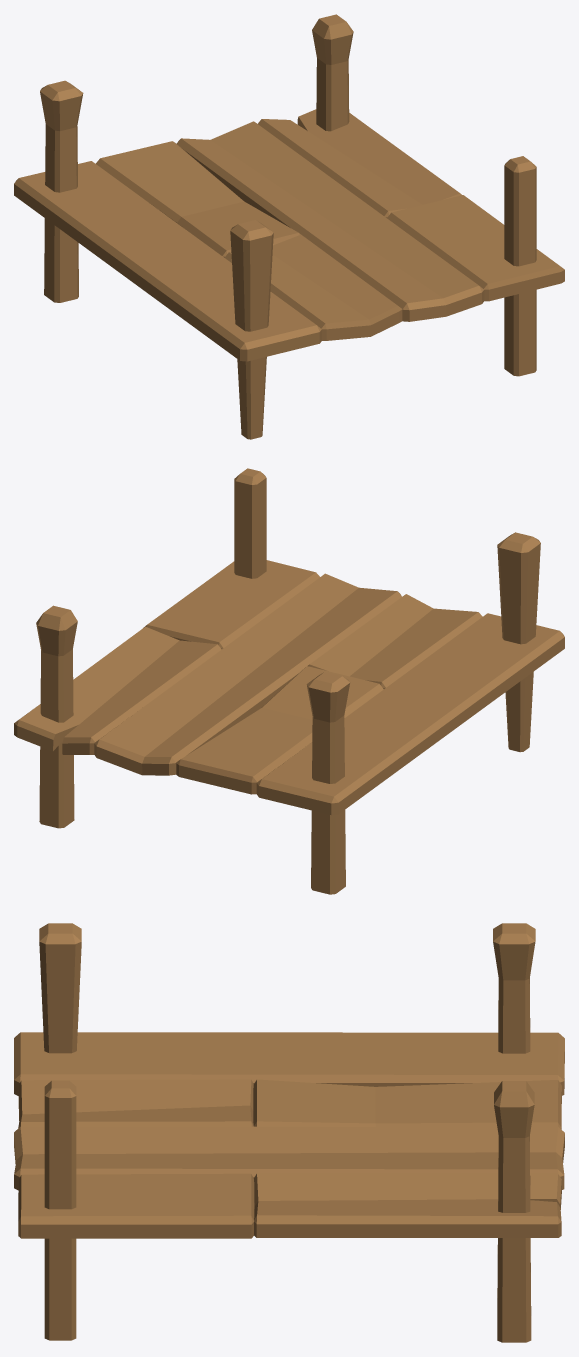
File: pier.fbx
The picture shows the model from 3 angles, top to bottom: view 1: azimuth 30°, elevation 25°; view 2: azimuth 150°, elevation 25°; view 3: azimuth 270°, elevation 25°; orthographic projection. The views are drawn at different scales.
Visible parts, largest first — view 1: Cube.001, Cube.002, Cube.003, Cube, Cube.004, Cube.005, Cube.006, Cube.007, Cube.008, Cube.009; view 2: Cube.001, Cube.002, Cube.003, Cube, Cube.005, Cube.004, Cube.006, Cube.009, Cube.007, Cube.008; view 3: Cube.002, Cube.001, Cube.003, Cube.004, Cube, Cube.005, Cube.009, Cube.008, Cube.007, Cube.006.
Part boxes in pixels (bbox=[...]): Cube.001: bbox=[176, 121, 484, 321]; Cube.002: bbox=[14, 161, 321, 361]; Cube.003: bbox=[258, 109, 462, 217]; Cube: bbox=[96, 141, 300, 257]; Cube.004: bbox=[387, 195, 564, 301]; Cube.005: bbox=[224, 234, 402, 340]; Cube.006: bbox=[40, 80, 83, 302]; Cube.007: bbox=[230, 220, 273, 439]; Cube.008: bbox=[504, 156, 536, 376]; Cube.009: bbox=[312, 14, 353, 131]; Cube.001: bbox=[94, 573, 401, 775]; Cube.002: bbox=[256, 613, 564, 815]; Cube.003: bbox=[14, 626, 221, 754]; Cube: bbox=[176, 666, 383, 794]; Cube.005: bbox=[308, 594, 482, 688]; Cube.004: bbox=[143, 560, 319, 649]; Cube.006: bbox=[306, 672, 350, 894]; Cube.009: bbox=[36, 605, 77, 828]; Cube.007: bbox=[497, 532, 540, 752]; Cube.008: bbox=[234, 468, 266, 578]; Cube.002: bbox=[14, 1032, 564, 1095]; Cube.001: bbox=[14, 1126, 564, 1190]; Cube.003: bbox=[254, 1173, 561, 1237]; Cube.004: bbox=[18, 1173, 254, 1238]; Cube: bbox=[253, 1079, 561, 1129]; Cube.005: bbox=[18, 1079, 253, 1127]; Cube.009: bbox=[494, 1081, 534, 1342]; Cube.008: bbox=[44, 1080, 76, 1340]; Cube.007: bbox=[39, 923, 81, 1053]; Cube.006: bbox=[493, 923, 535, 1053].
Bounding box in the file's own units: 162 × 99.75 × 200.
